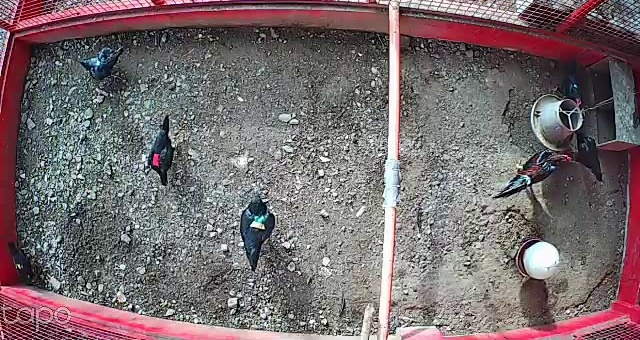Chicken: (232, 189, 281, 275), (557, 126, 610, 184), (145, 112, 179, 193), (75, 40, 130, 83)
Rooster: (490, 146, 575, 202)
Saddle_Color_Red: (152, 154, 161, 167)
Saddle_Color_YellowGreen: (247, 212, 267, 232)
